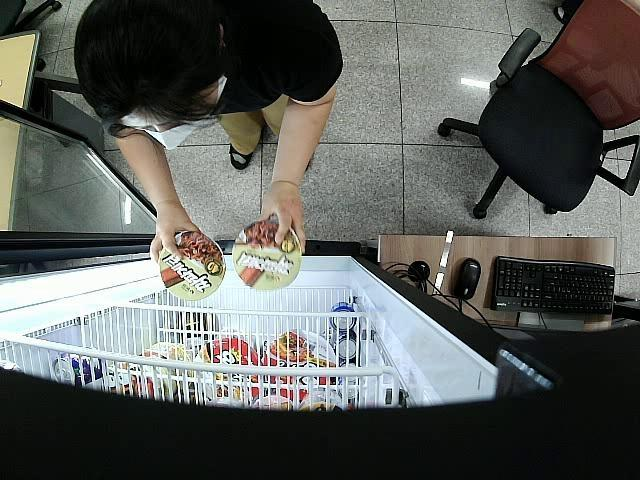03_chapagetti_L: (232, 220, 302, 289), (161, 230, 224, 300)
